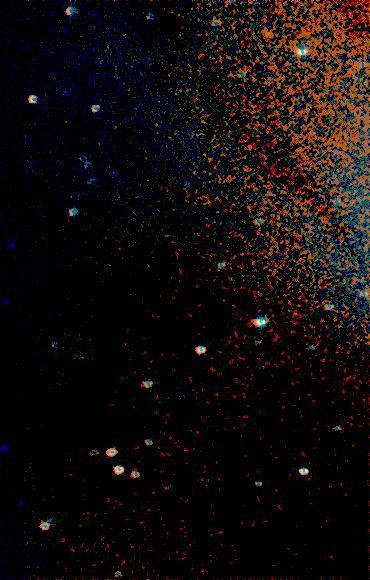star: (253, 18, 283, 48)
